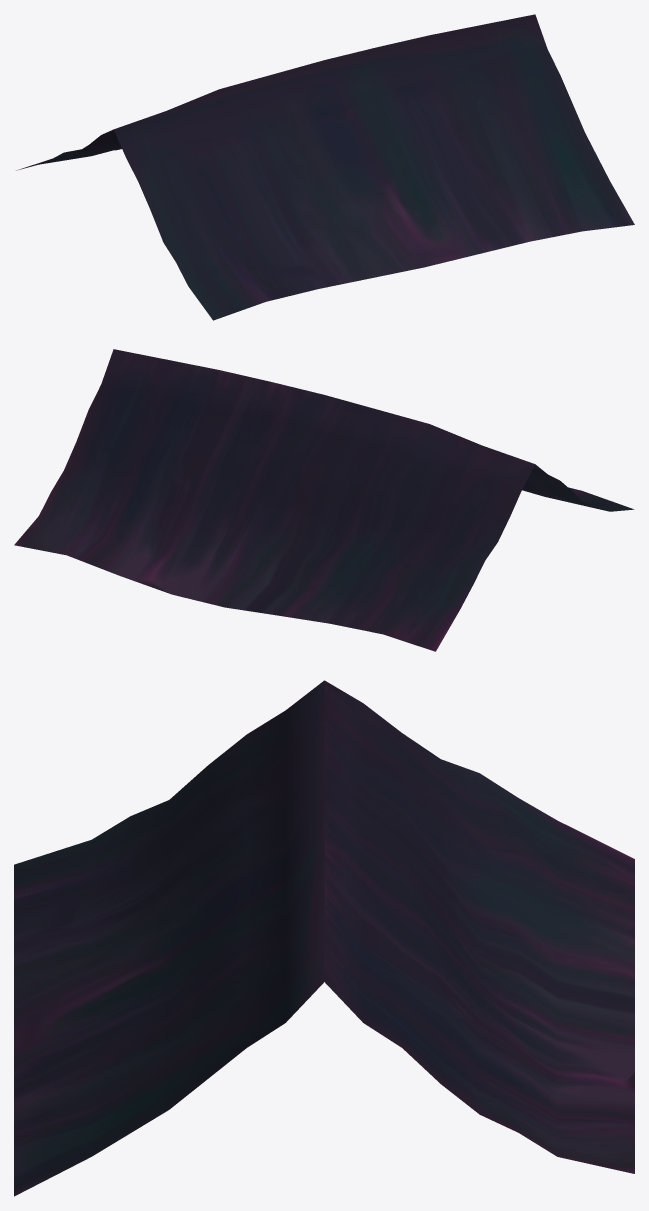
Rendered from Tent_002.fbx.
3 views of the same model, one above another, from view 1: azimuth 30°, elevation 25°; view 2: azimuth 150°, elevation 25°; view 3: azimuth 270°, elevation 25° (orthographic). The views are drawn at different scales.
Visible parts, largest first — view 1: Tent05; view 2: Tent05; view 3: Tent05.
Part boxes in pixels (bbox=[...]): Tent05: bbox=[16, 14, 634, 320]; Tent05: bbox=[14, 349, 634, 651]; Tent05: bbox=[14, 680, 634, 1196].
Size of the model in its own units: 2189 by 711 by 1791.
1 material, 1 textured.
